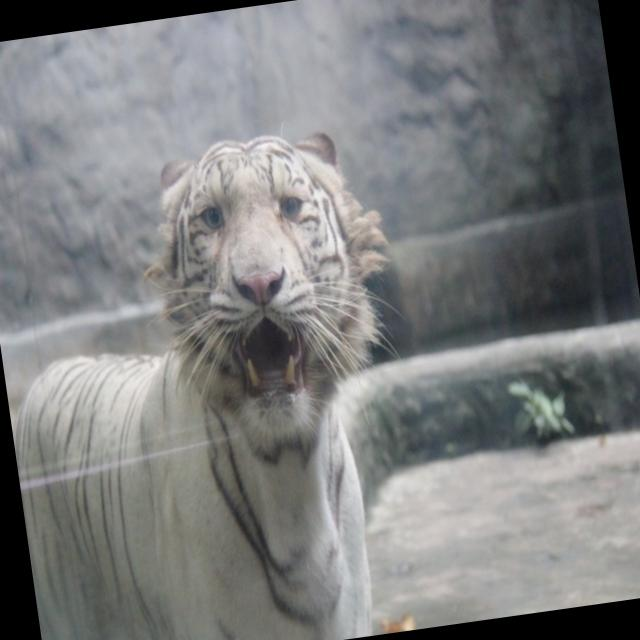tiger: (67, 79, 462, 588)
